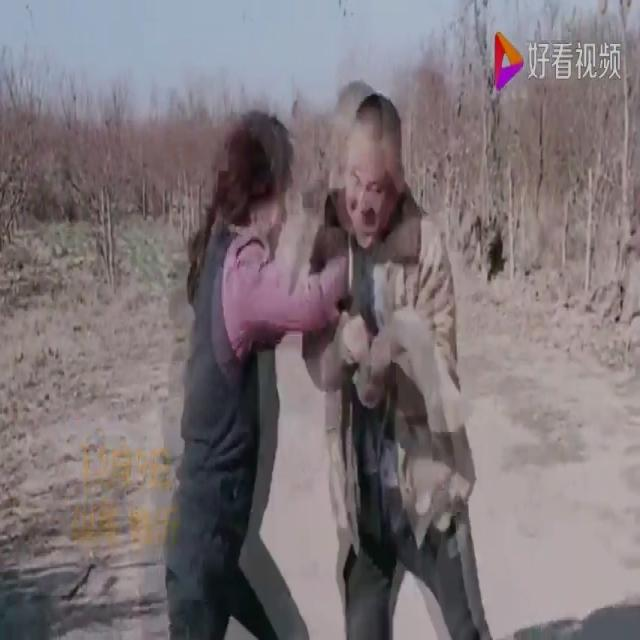fight: (153, 92, 478, 639)
